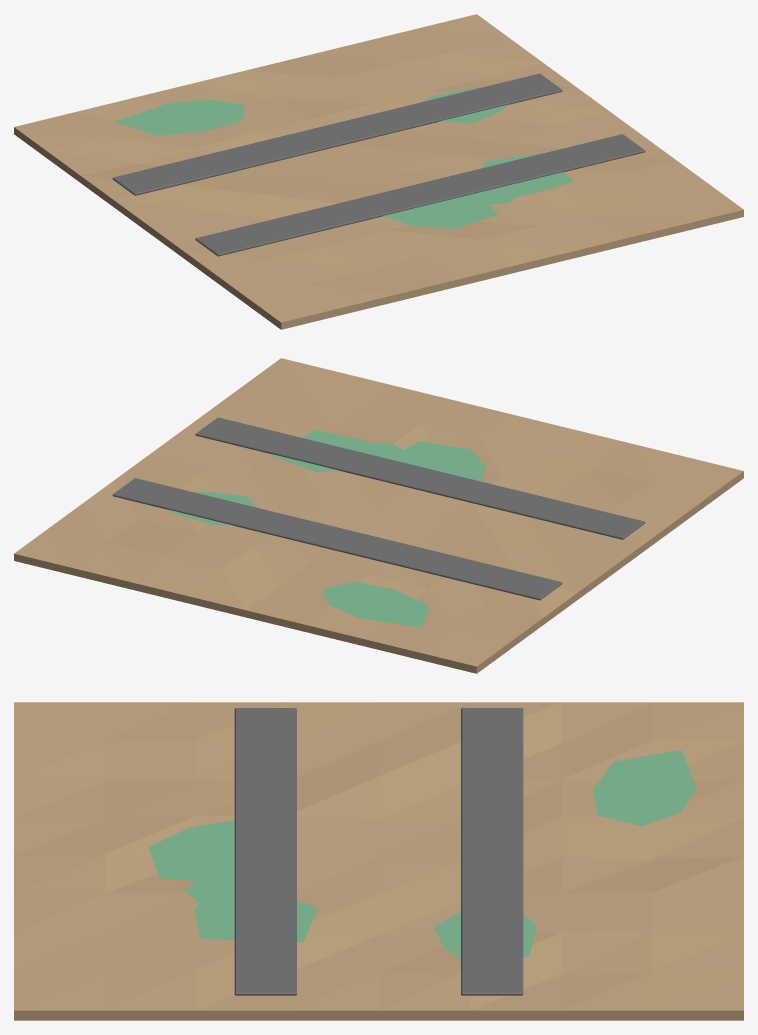
Rendered from live-music-venue-and-festival-stage-festival-field-gro-42229a5d__33886.glb.
3 views of the same model, one above another, from view 1: azimuth 30°, elevation 25°; view 2: azimuth 150°, elevation 25°; view 3: azimuth 270°, elevation 25° (orthographic). The views are drawn at different scales.
Visible parts, largest first — view 1: festival-field-ground-tile-worn; view 2: festival-field-ground-tile-worn; view 3: festival-field-ground-tile-worn.
Part boxes in pixels (box(x1,y1,x2,y2)): festival-field-ground-tile-worn: box(14, 14, 743, 329); festival-field-ground-tile-worn: box(14, 358, 743, 673); festival-field-ground-tile-worn: box(14, 702, 743, 1020).
Size of the model in its own units: 4 by 0.0978 by 4.
